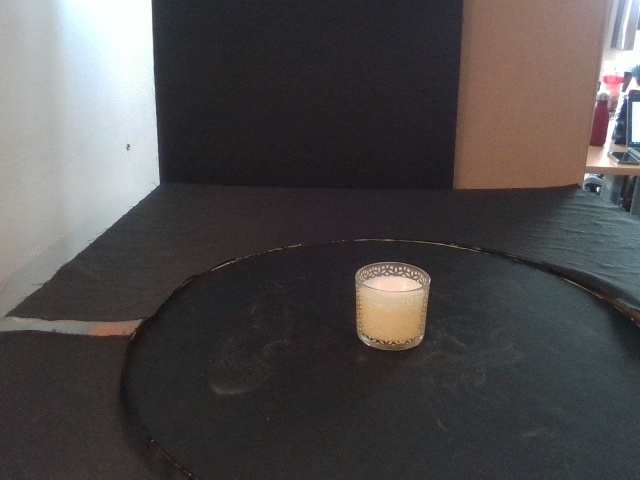candle: (354, 260, 432, 351)
